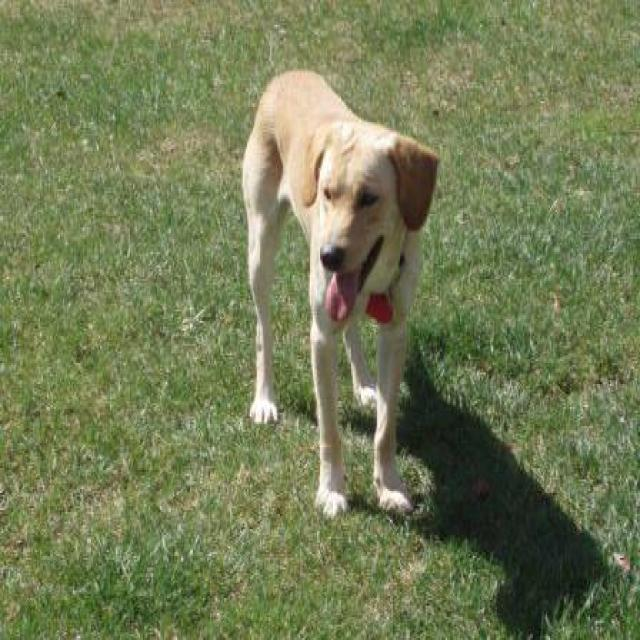dog: (240, 67, 440, 520)
